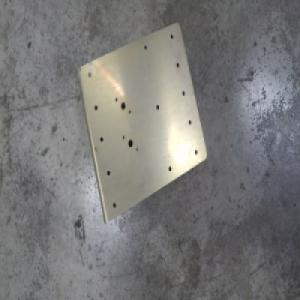MetalSheet: (75, 18, 207, 227)
